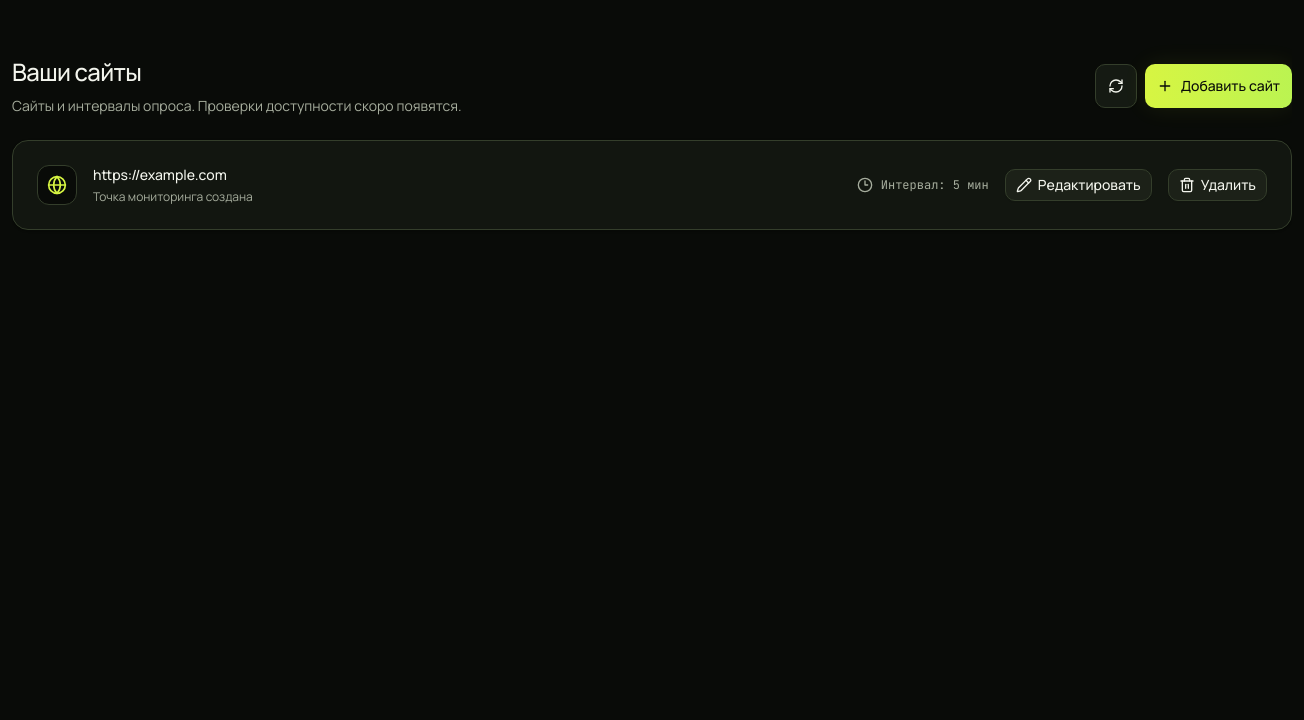
Test case: cancels changes and starts a fresh draft when reopening
This screenshot has width=1304, height=720.
Expected: the text "https://example.com" is shown, [93,165,227,184]
Click the button "Редактировать": click(1078, 185) [1005,169,1152,201]
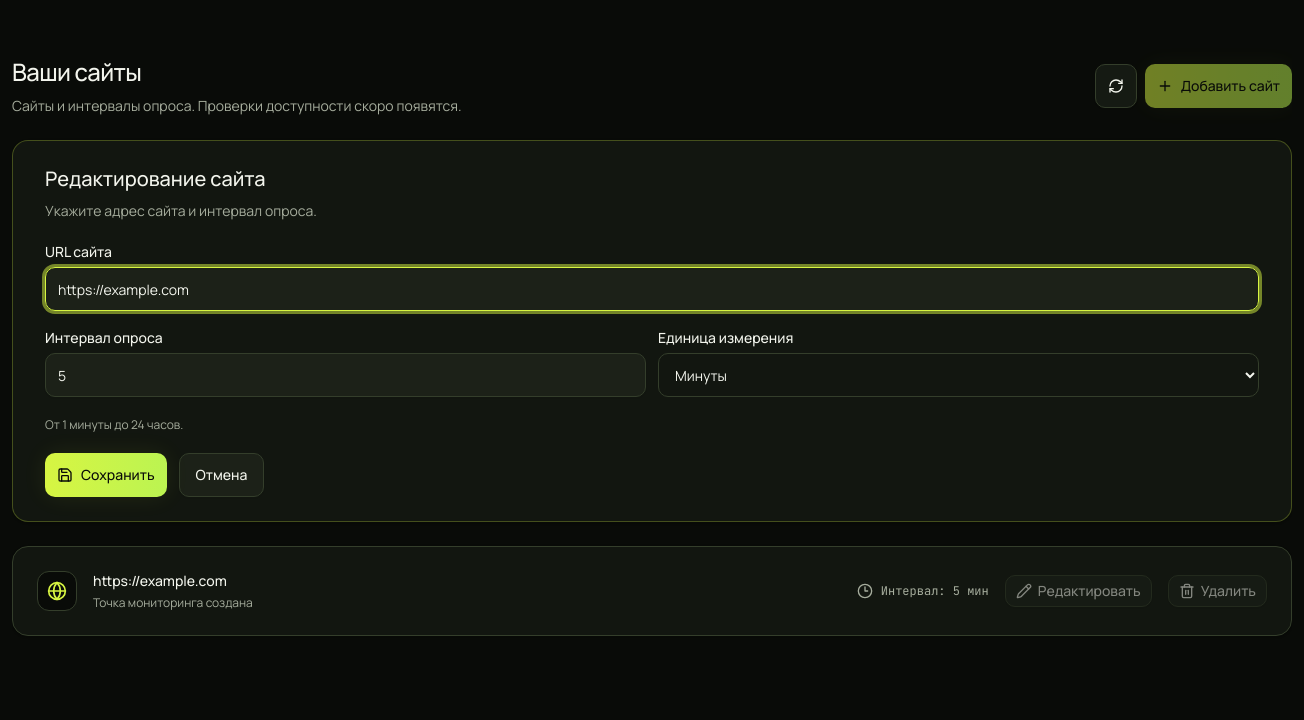
In the field labelled "URL сайта": (652, 289) [45,267,1259,311], type "https://draft.example.com"
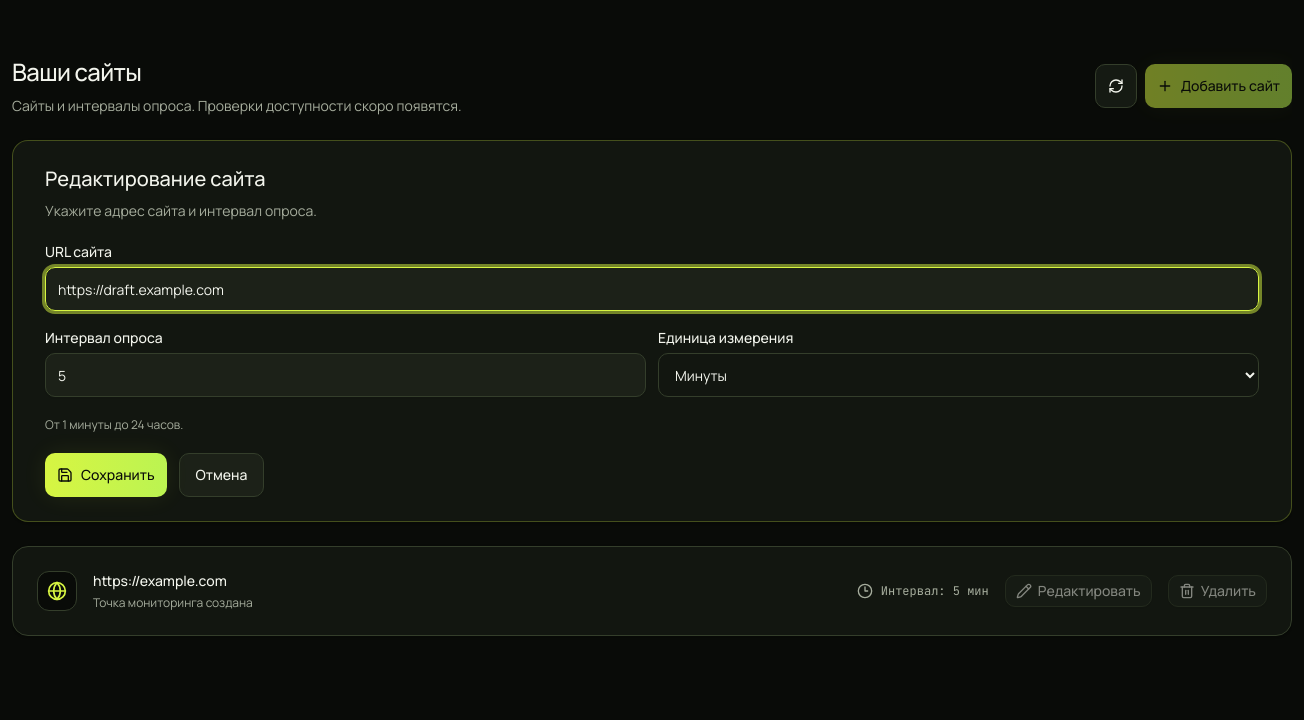
Click the button "Отмена": click(222, 475) [179,453,264,497]
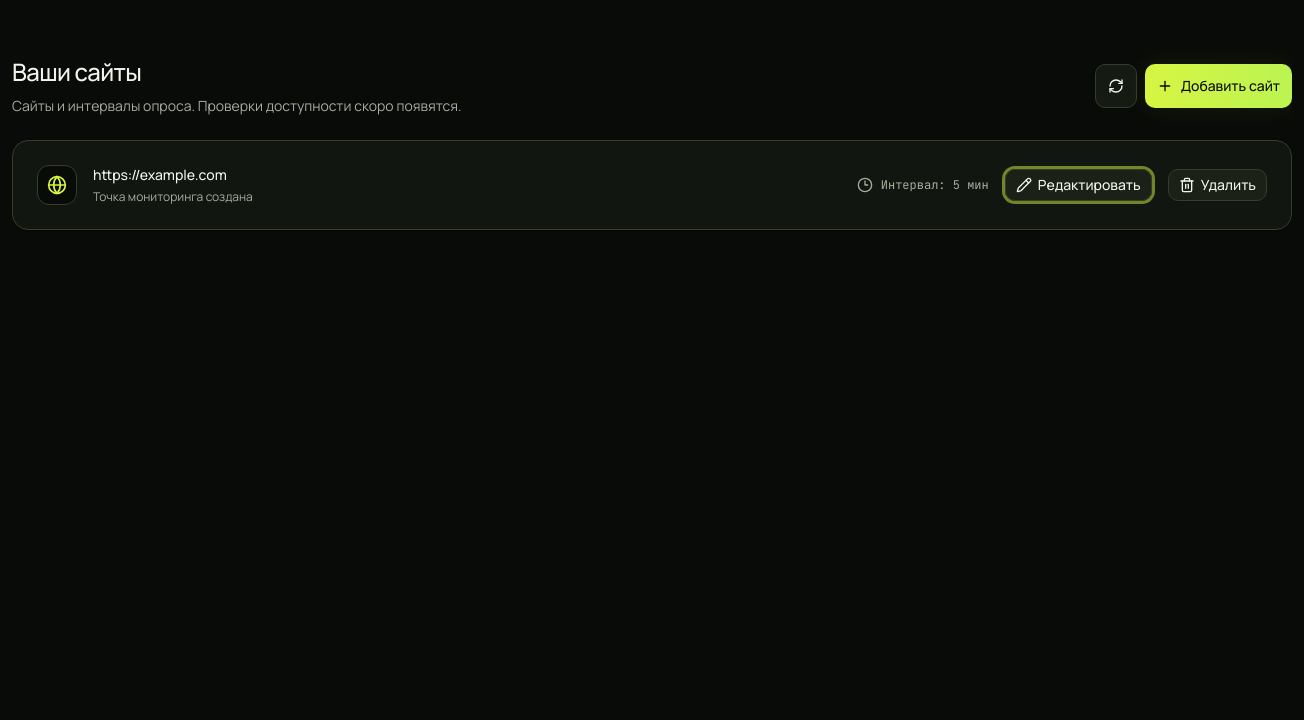
Click the button "Редактировать": click(1078, 185) [1005,169,1152,201]
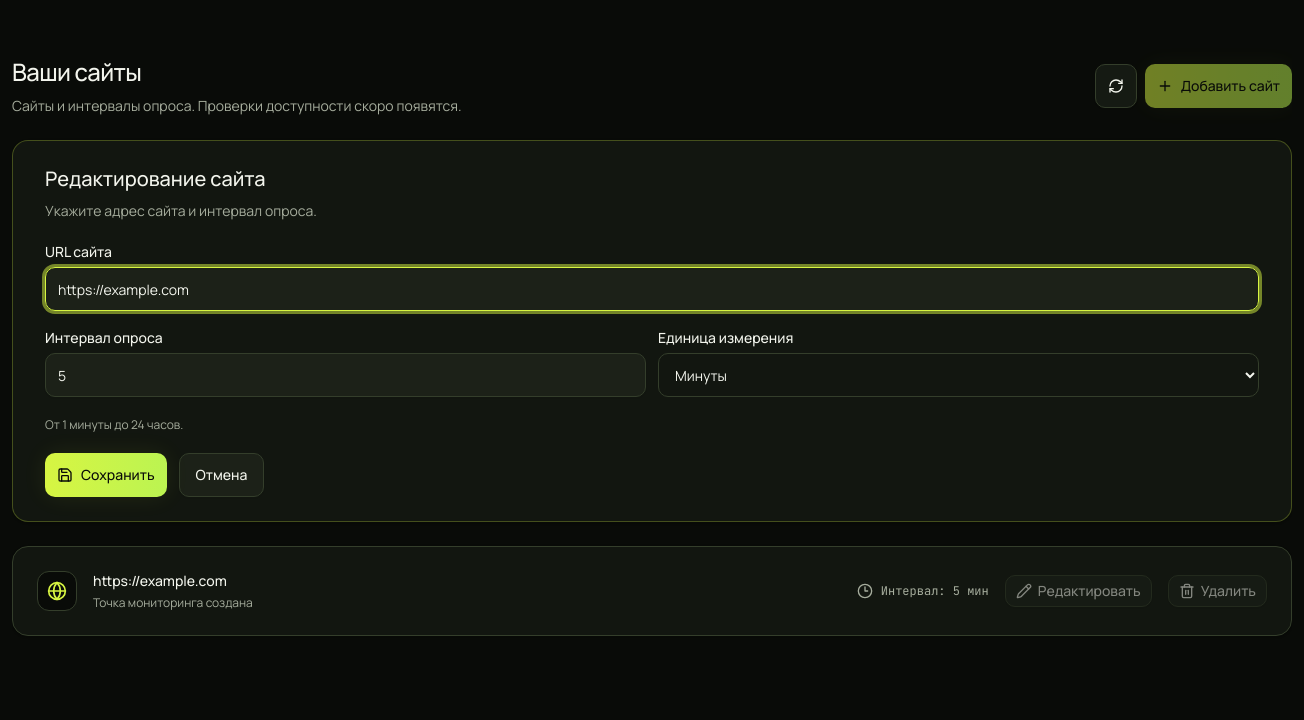
Expected: the field labelled "URL сайта" holds "https://example.com", [45,267,1259,311]
